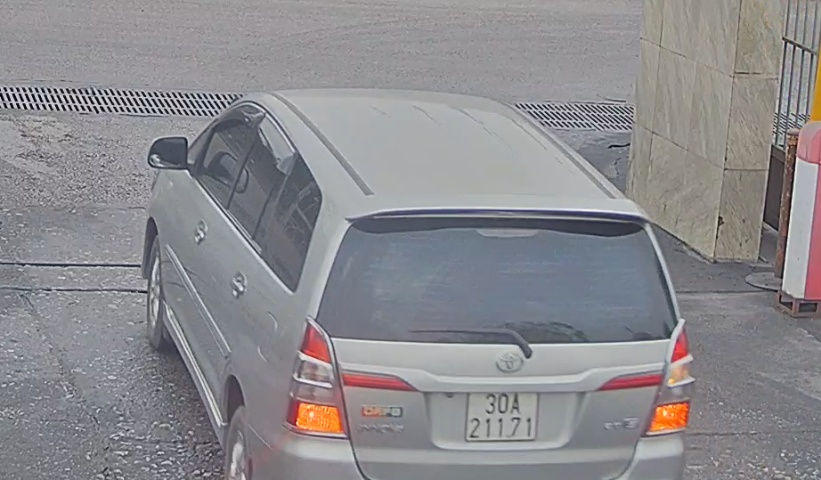vehicle plate: (464, 385, 538, 442)
